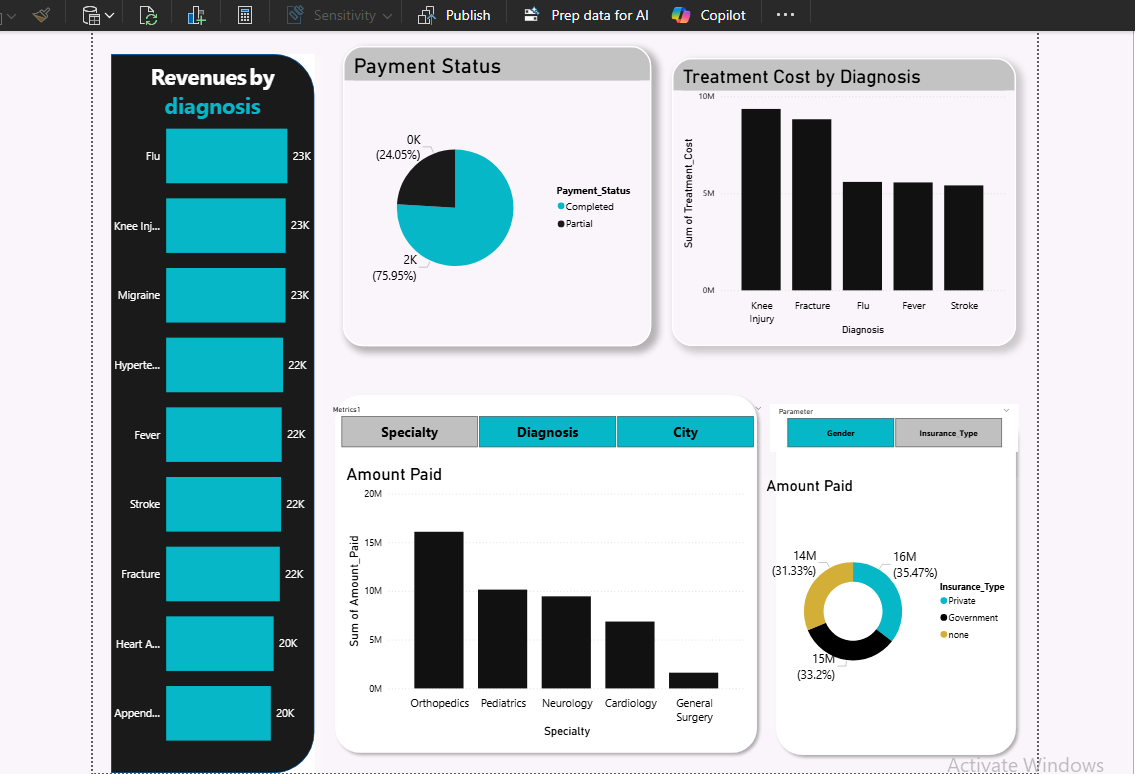

The page's visual inventory and layout, read from the dashboard file:
{"tool":"powerbi","page":{"name":"Page 2","canvas":[1400,1100],"ordinal":1},"visuals":[{"type":"columnChart","title":"Treatment Cost by Diagnosis","fields":{"Category":["visits.Diagnosis"],"Y":["Sum(visits.Treatment_Cost)"]},"box":[858.1,40.3,509.7,427.4],"z":0},{"type":"pieChart","title":"Payment Status","fields":{"Y":["doctors.Payment Count"],"Category":["payments.Payment_Status"]},"box":[370.6,22.2,456.6,444.7],"z":1000},{"type":"shape","box":[27.4,33.9,301.6,1066.1],"z":2000},{"type":"clusteredBarChart","fields":{"Category":["visits.Diagnosis"],"Y":["doctors.Revenue per Visit"]},"box":[13.3,90.4,327.6,1009.6],"z":3000},{"type":"textbox","box":[26.7,40,300.9,99.3],"z":4000},{"type":"shape","box":[350,530.6,643.5,548.4],"z":5000},{"type":"slicer","fields":{"Values":["Parameter.Parameter"]},"box":[341.9,550,661.3,74.2],"z":6000},{"type":"columnChart","title":"Amount Paid","fields":{"Category":["doctors.Specialty"],"Y":["Sum(payments.Amount_Paid)"]},"box":[371,641.9,601.6,409.7],"z":7000},{"type":"shape","box":[1003.6,553,373.6,529.2],"z":8000},{"type":"slicer","fields":{"Values":["Parameter.Parameter"]},"box":[1003.2,553.2,367.7,71],"z":9000},{"type":"donutChart","title":"Amount Paid","fields":{"Category":["patients_cleaned.Insurance_Type"],"Y":["Sum(payments.Amount_Paid)"]},"box":[993.3,661.1,379,372.1],"z":10000}]}

Visuals, with their boxes on the page's 1400x1100 design canvas (x1, y1, x2, y2). These are canvas units, not pixel positions in the 1135x774 screenshot, which may show the page scaled, cropped or inside an application window:
"Treatment Cost by Diagnosis" columnChart: (858,40,1368,468)
"Payment Status" pieChart: (371,22,827,467)
shape: (27,34,329,1100)
clusteredBarChart - visits.Diagnosis x doctors.Revenue per Visit: (13,90,341,1100)
textbox: (27,40,328,139)
shape: (350,531,994,1079)
slicer - Parameter.Parameter: (342,550,1003,624)
"Amount Paid" columnChart: (371,642,973,1052)
shape: (1004,553,1377,1082)
slicer - Parameter.Parameter: (1003,553,1371,624)
"Amount Paid" donutChart: (993,661,1372,1033)
